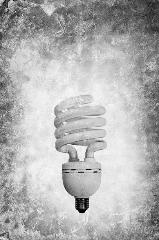lightbulb: (53, 95, 107, 213)
